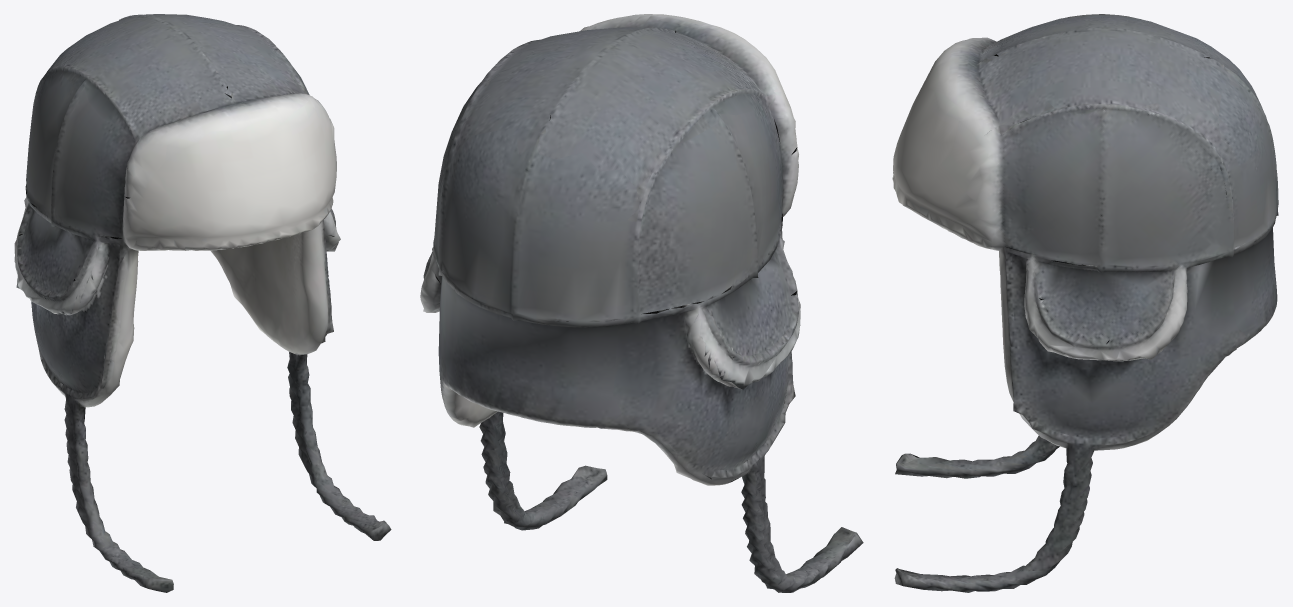
The model's file is ushanka.glb.
3 renders of one model, left to right at view 1: azimuth 30°, elevation 25°; view 2: azimuth 150°, elevation 25°; view 3: azimuth 270°, elevation 25°, orthographic. The views are drawn at different scales.
Parts seen in each view (by area): view 1: node_0; view 2: node_0; view 3: node_0.
Boxes of the visible parts, x1=… form: node_0: x1=14, y1=14, x2=391, y2=592; node_0: x1=420, y1=14, x2=863, y2=592; node_0: x1=892, y1=14, x2=1278, y2=592.
Size of the model in its own units: 0.46 by 0.7393 by 0.5129.
Materials: 1 (1 with a texture image).
